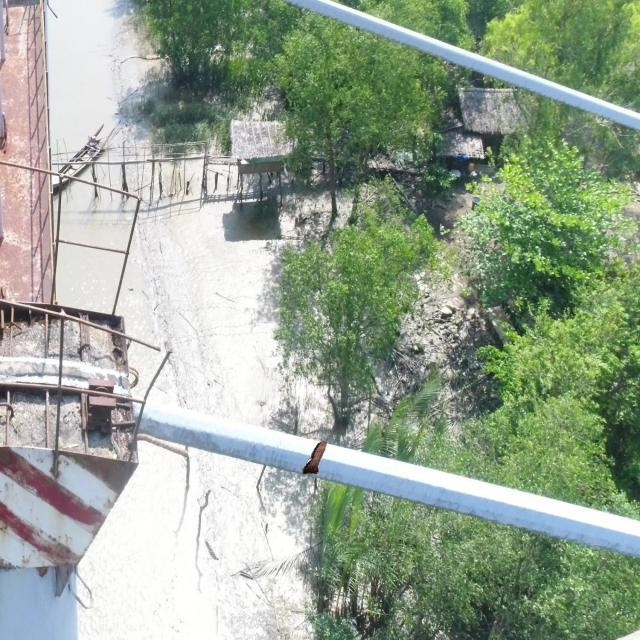corrosion: (300, 440, 328, 475)
